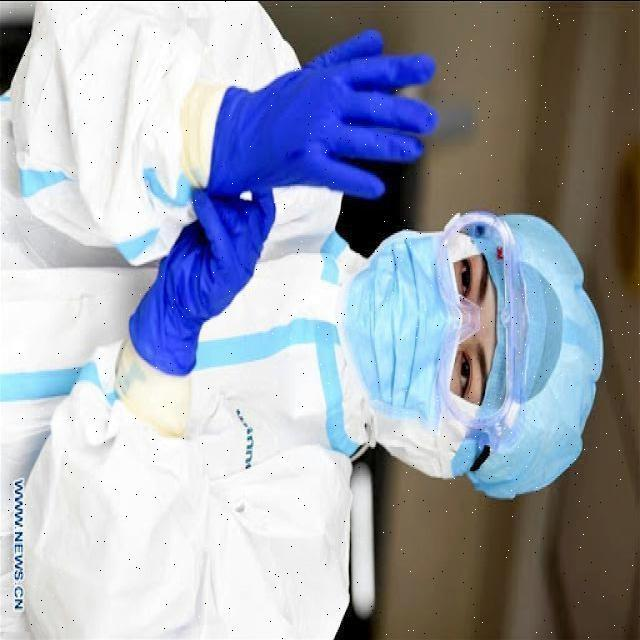apron: (198, 19, 438, 196), (105, 174, 283, 362)
